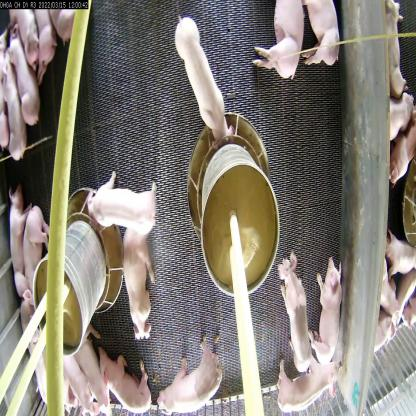Pig: (174, 7, 239, 151), (83, 177, 161, 245), (84, 342, 152, 415), (163, 340, 224, 416), (317, 254, 351, 385), (2, 190, 37, 316), (118, 231, 156, 342), (8, 17, 44, 131), (253, 0, 301, 84), (275, 358, 342, 416), (283, 247, 314, 370), (70, 333, 109, 415), (23, 198, 54, 300), (52, 346, 97, 415), (299, 0, 337, 68), (26, 0, 56, 78), (4, 49, 24, 146)
